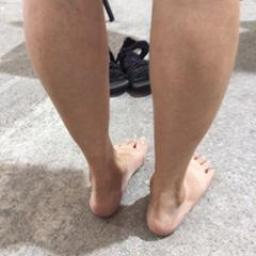Back View -Both Feet-: (60, 124, 223, 239)
